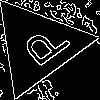P: (13, 21, 73, 75)
